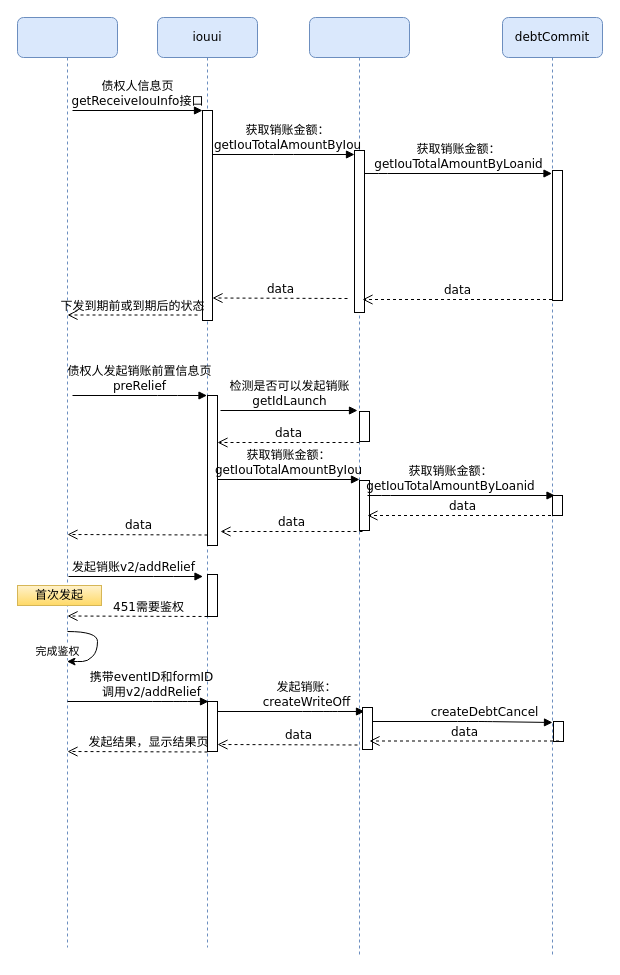
This 620x975 diagram has some shape labels left out. The box of each missing label's shape, as (x1, y1, x2, y2) in pixels:
client: (16, 16, 118, 948)
server: (308, 16, 410, 958)
